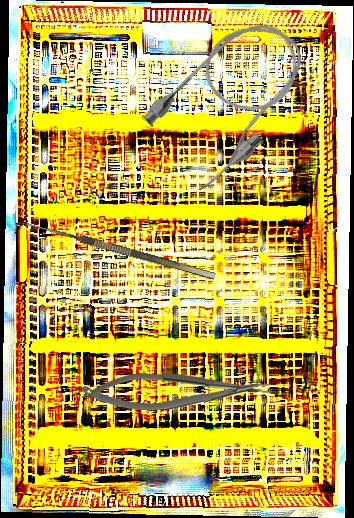Cannula: (132, 0, 329, 200)
Hook Surgical: (13, 216, 217, 291)
Needle Holder: (80, 370, 272, 414)
